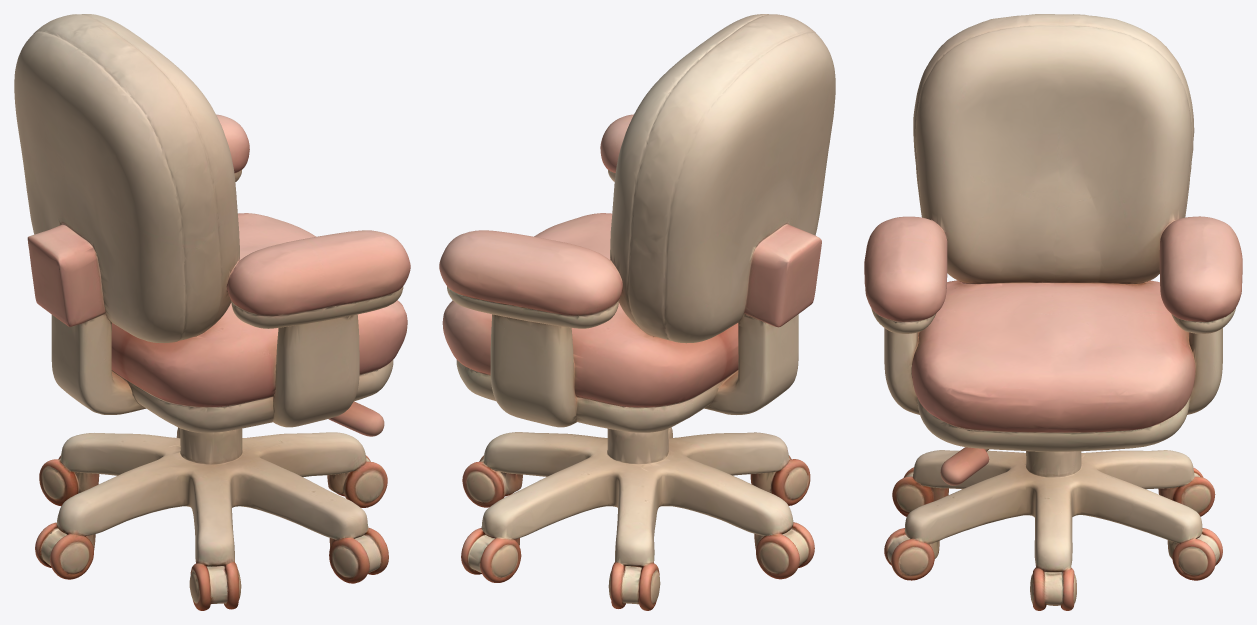
File: chair-99ffee5071c6.glb
3 renders of one model, left to right at view 1: azimuth 30°, elevation 25°; view 2: azimuth 150°, elevation 25°; view 3: azimuth 270°, elevation 25°, orthographic. The views are drawn at different scales.
Visible parts, largest first — view 1: tripo_node_f3aead95-e9e4-4b5c-8f88-a1b753f49d87; view 2: tripo_node_f3aead95-e9e4-4b5c-8f88-a1b753f49d87; view 3: tripo_node_f3aead95-e9e4-4b5c-8f88-a1b753f49d87.
Boxes of the visible parts, bbox=[...] form: tripo_node_f3aead95-e9e4-4b5c-8f88-a1b753f49d87: bbox=[14, 14, 410, 610]; tripo_node_f3aead95-e9e4-4b5c-8f88-a1b753f49d87: bbox=[439, 14, 835, 610]; tripo_node_f3aead95-e9e4-4b5c-8f88-a1b753f49d87: bbox=[864, 14, 1242, 610].
Bounding box in the file's own units: 0.6702 × 1 × 0.7149.
Materials: 1 (1 with a texture image).
